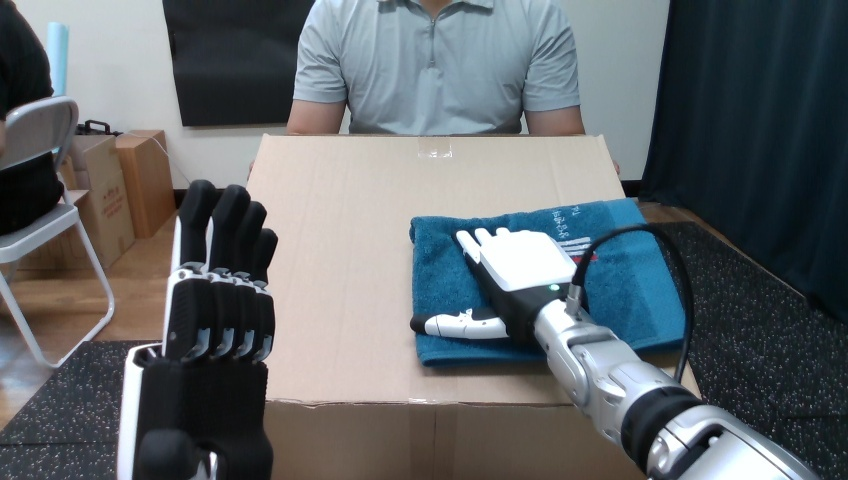left robot hand: (412, 224, 816, 479), (117, 180, 276, 478), (582, 230, 686, 378)
